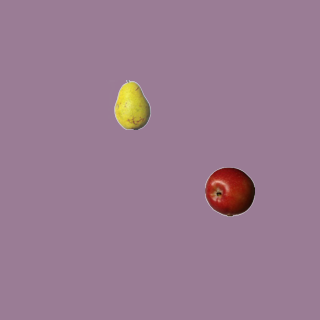Apple Braeburn: (204, 166, 254, 216)
Pear Monster: (107, 79, 157, 129)
